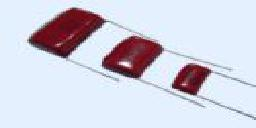Electrolytic-capacitor: (171, 63, 256, 121), (25, 7, 106, 63), (100, 34, 171, 83)
